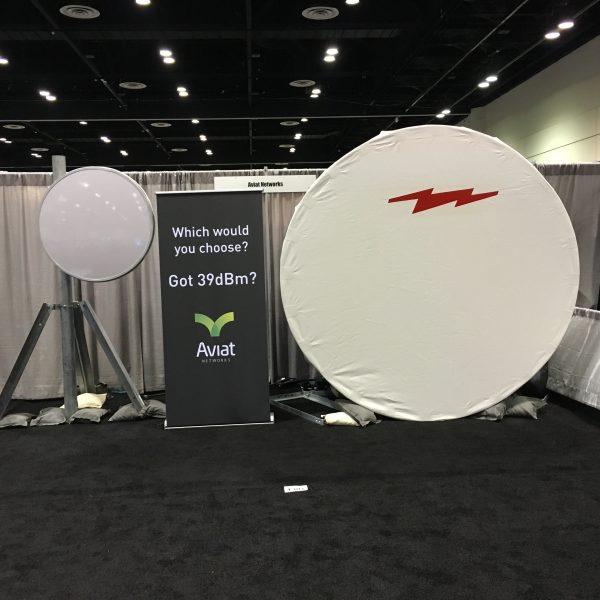ba: (278, 116, 583, 422), (34, 154, 156, 307)
